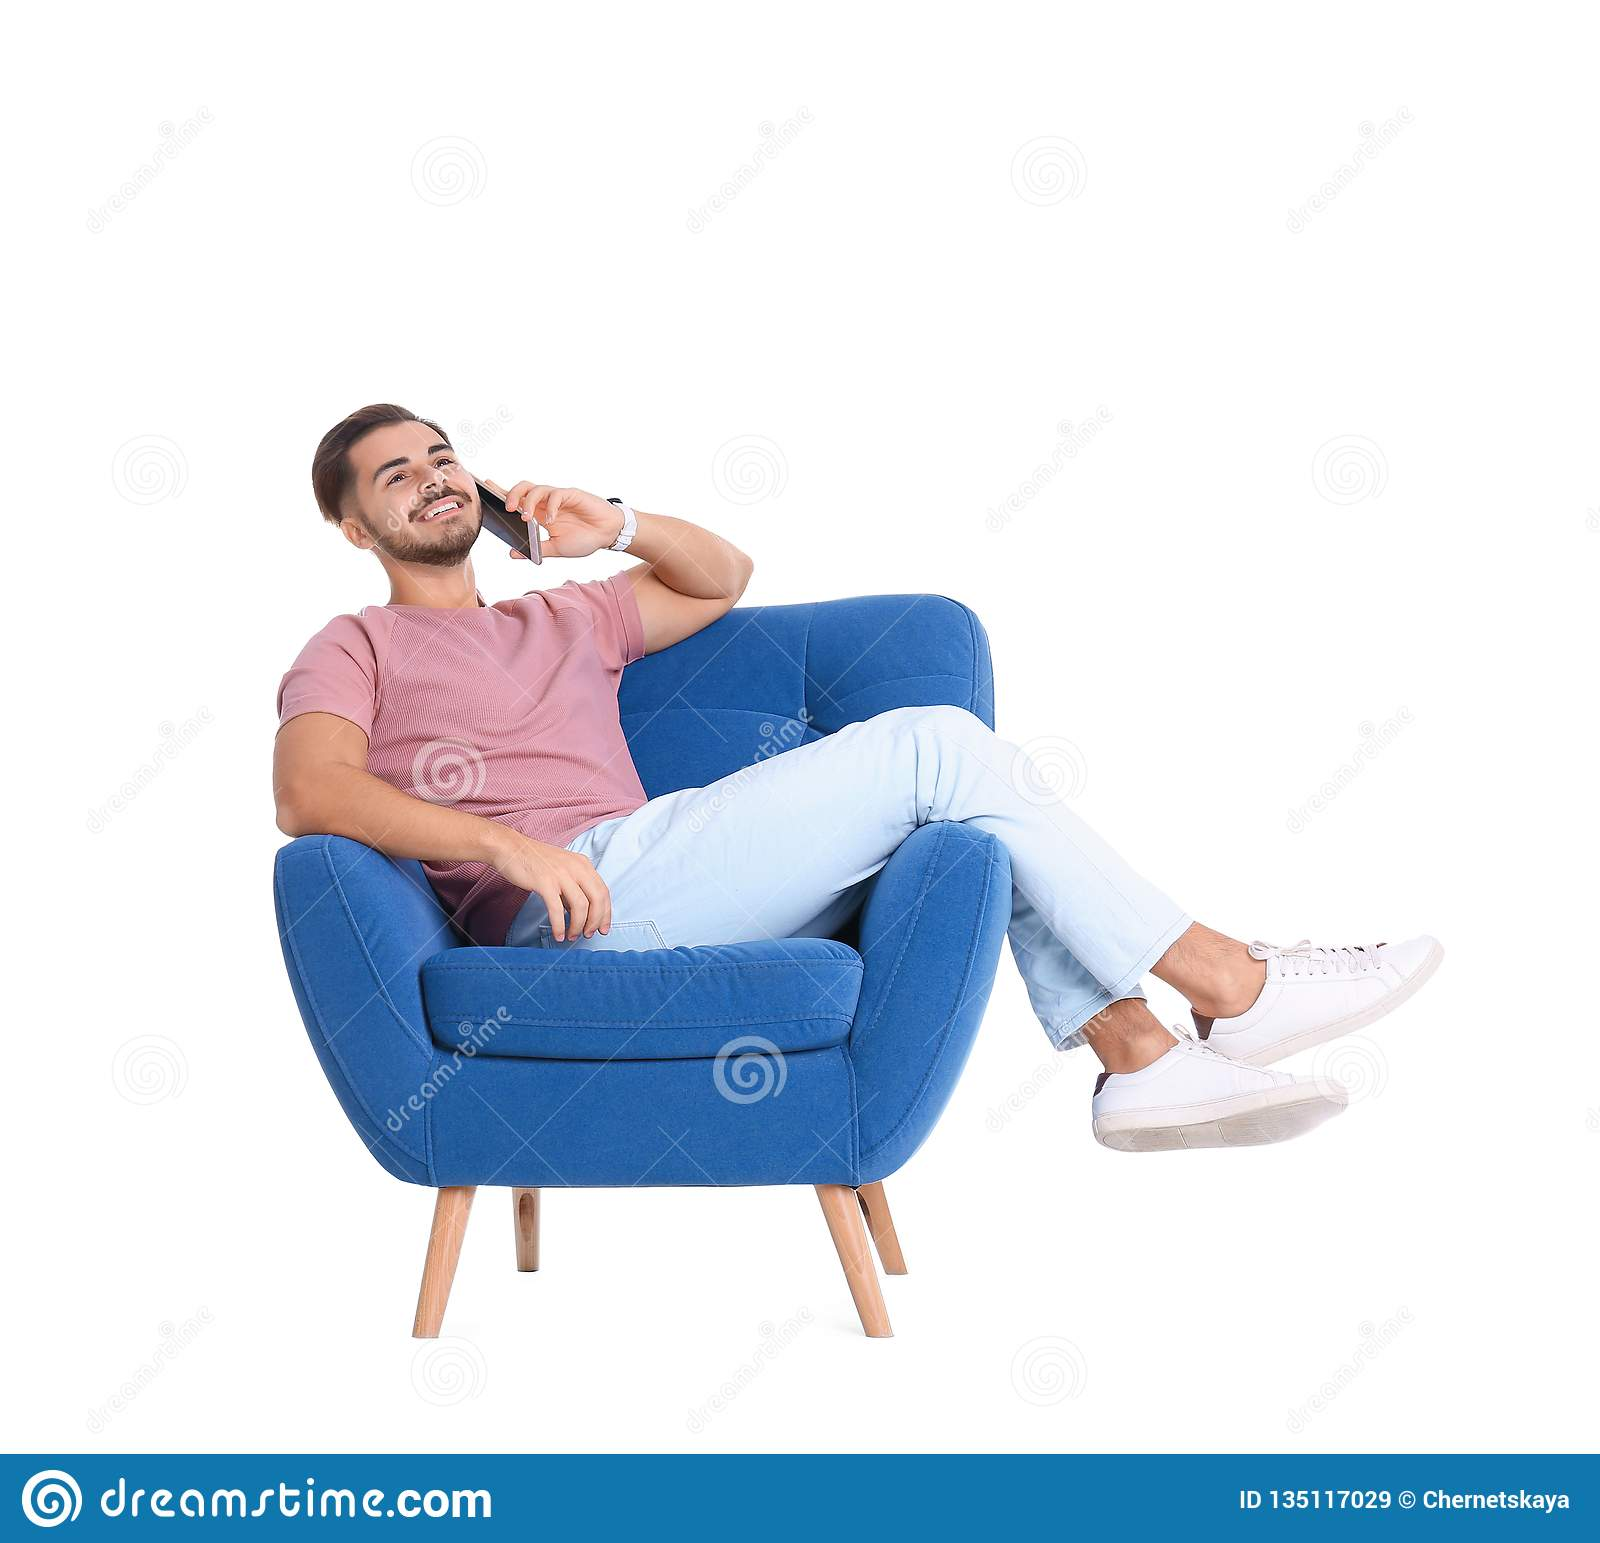phone: (473, 471, 549, 574)
talk: (369, 443, 617, 567)
